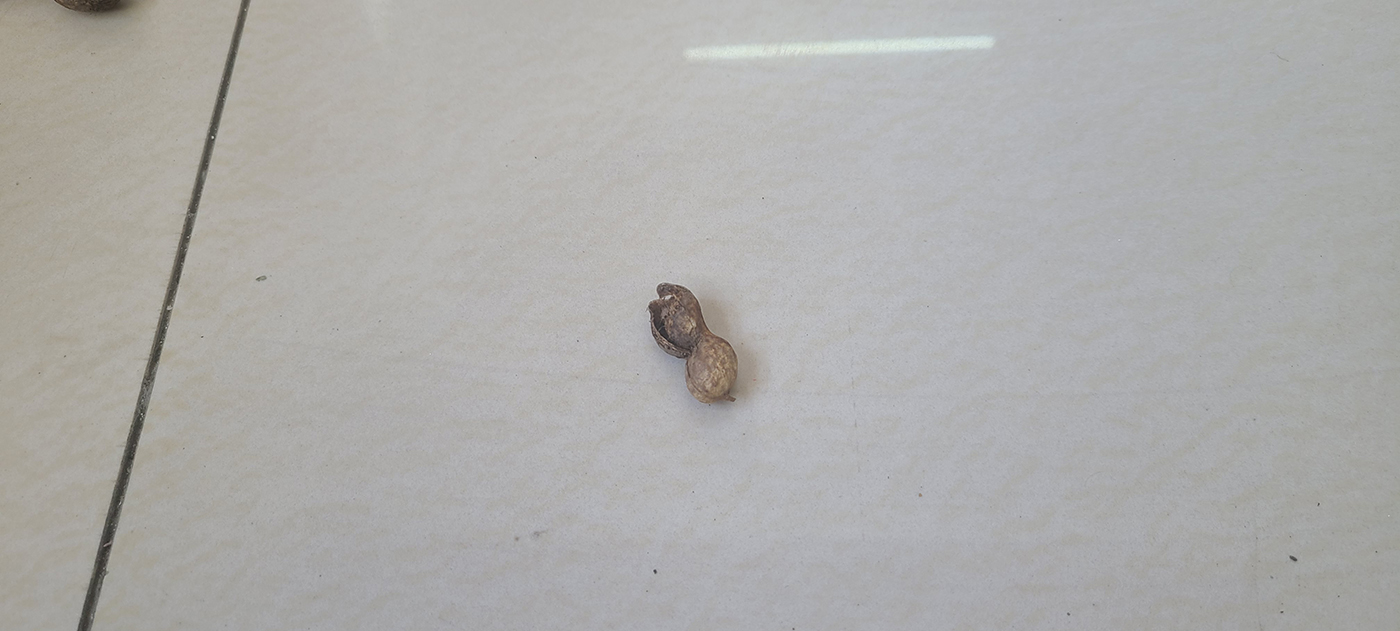l: (646, 284, 739, 404)
